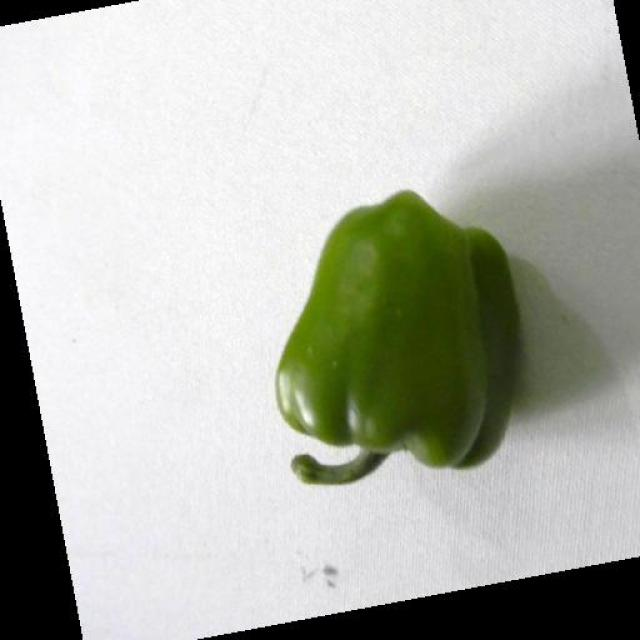Fresh_Capsicum: (288, 181, 499, 465)
